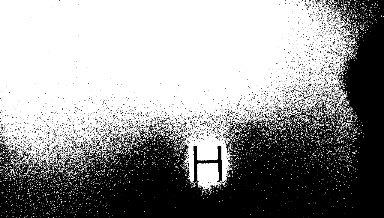H: (188, 142, 227, 181)
